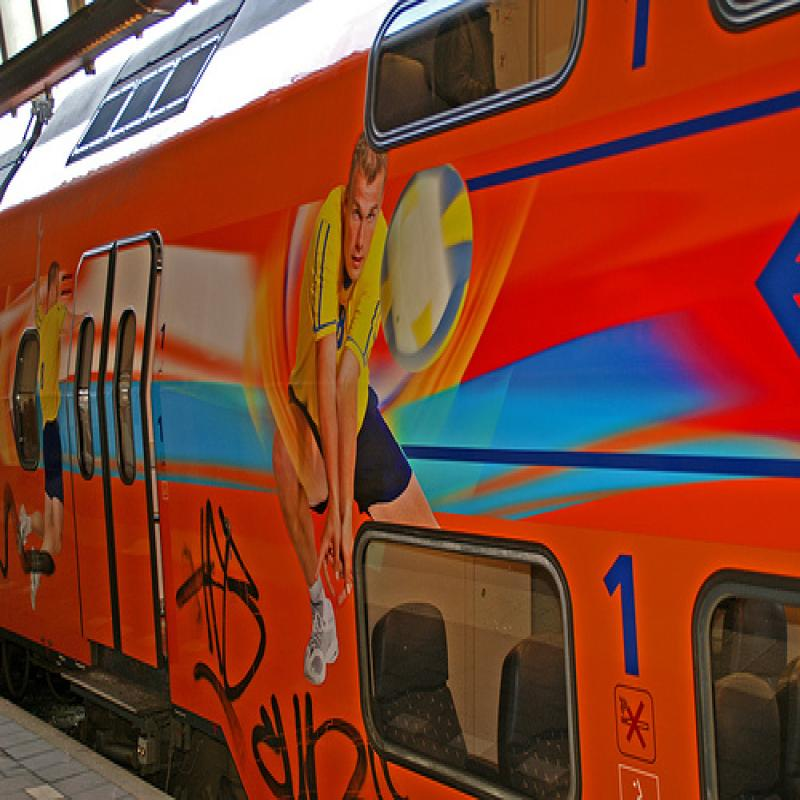train: (1, 1, 798, 799)
